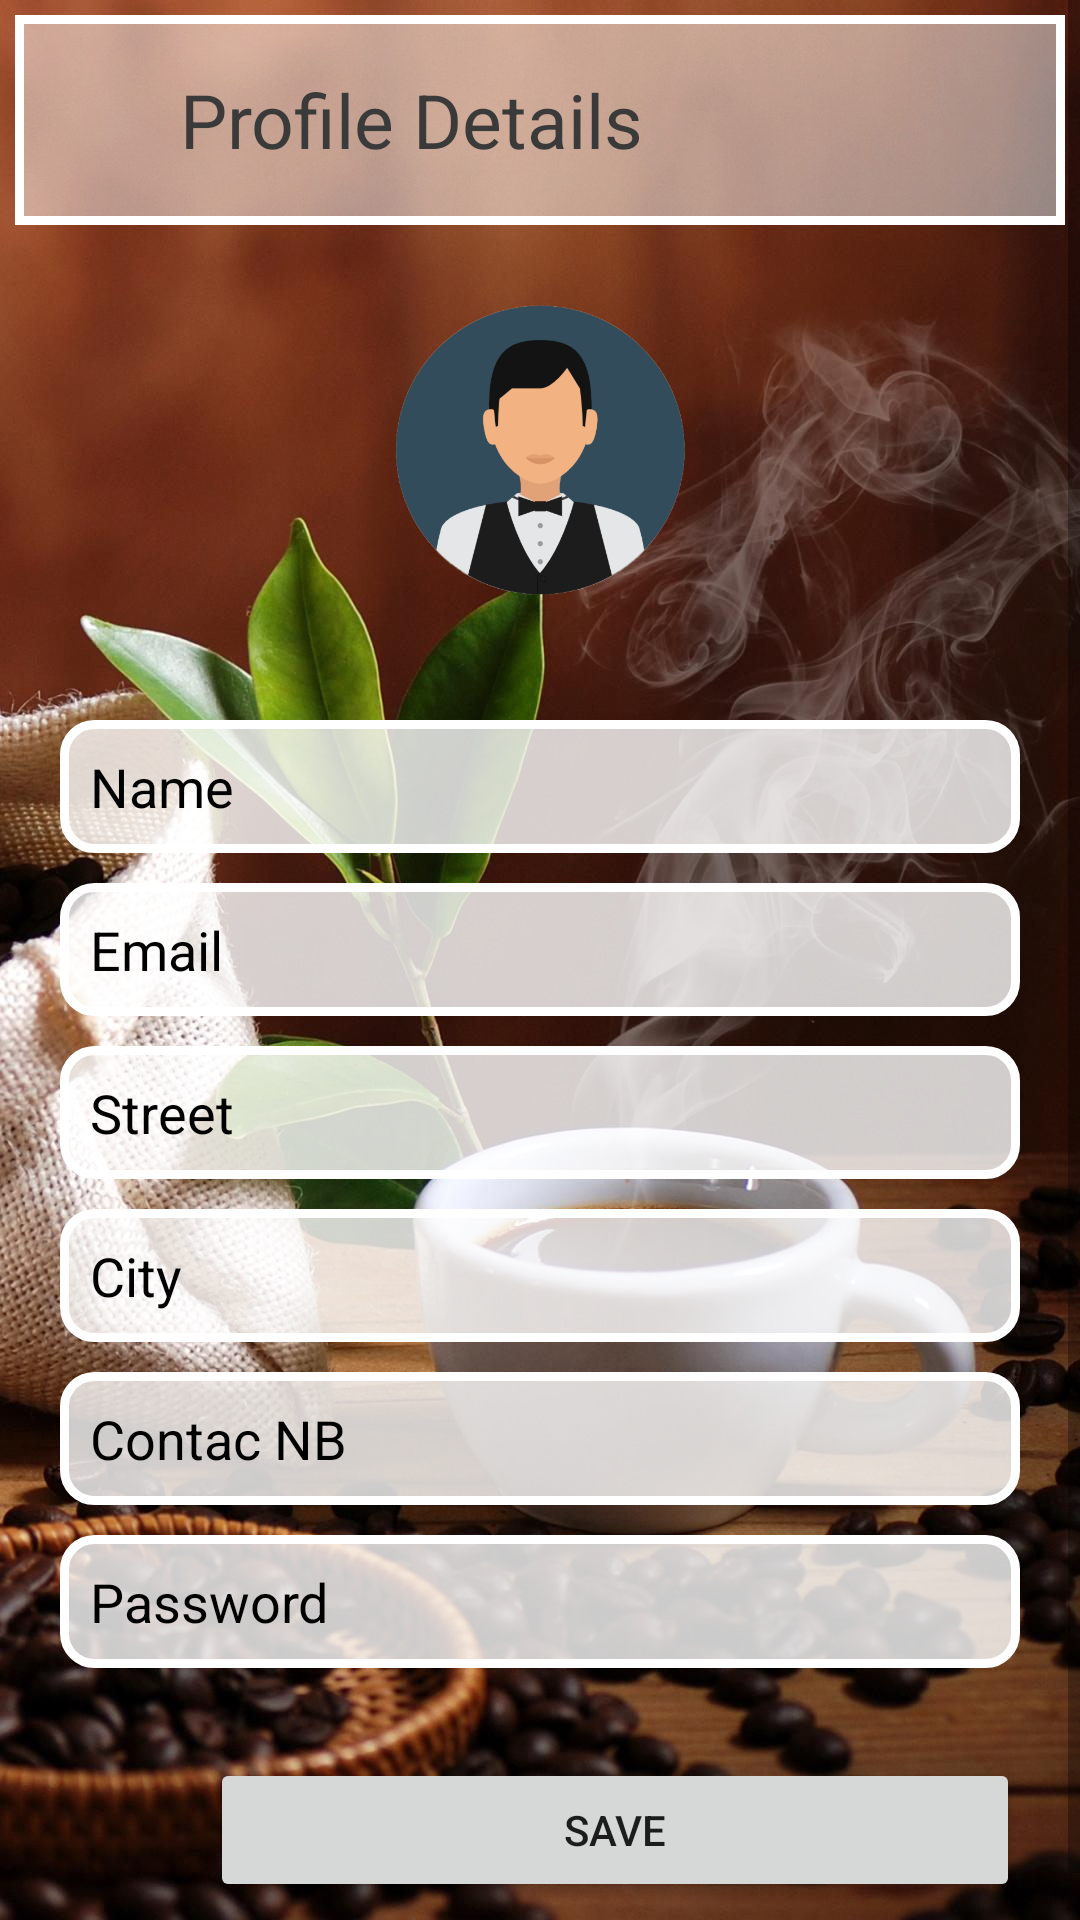

Screen size 1080×1920. Icon name, then its center in pixels as (x,y):
avater: (543,450)
